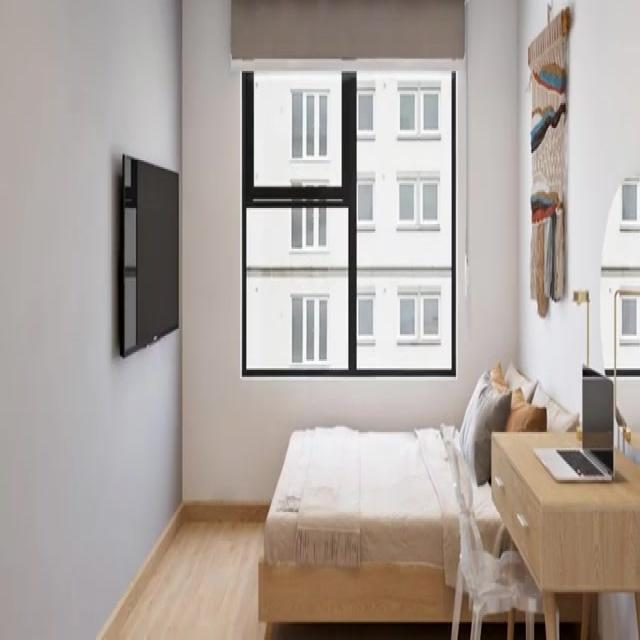obstacle: (257, 361, 581, 636), (489, 428, 639, 638)
